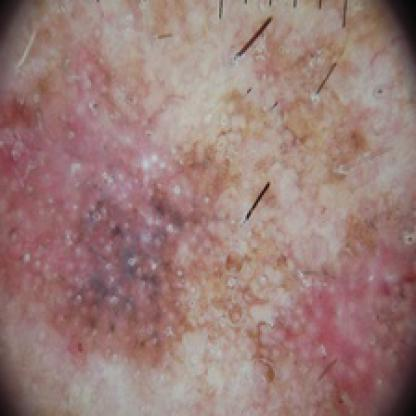malignant: (8, 47, 414, 388)
